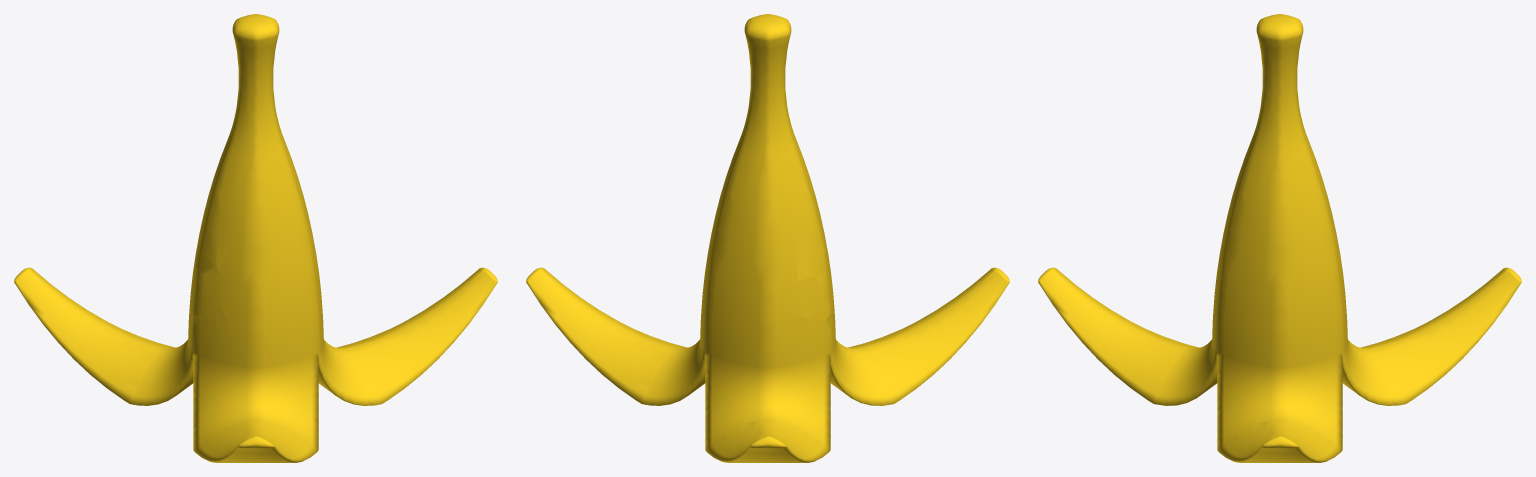
The model's file is banana_peel f.fbx.
The picture shows the model from 3 angles, left to right: view 1: azimuth 30°, elevation 25°; view 2: azimuth 150°, elevation 25°; view 3: azimuth 270°, elevation 25°; orthographic projection.
Parts seen in each view (by area): view 1: banana; view 2: banana; view 3: banana.
Boxes of the visible parts, left/top/right/bottom form: banana: left=14, top=14, right=497, bottom=462; banana: left=526, top=14, right=1009, bottom=462; banana: left=1038, top=14, right=1521, bottom=462.
Size of the model in its own units: 33.61 by 34 by 38.57.
